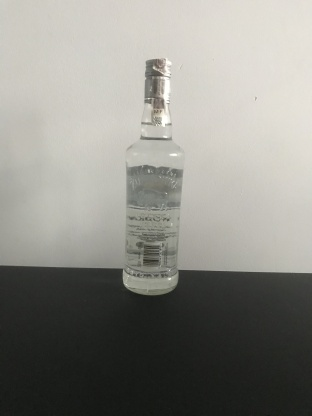nakretka: (142, 55, 173, 104)
